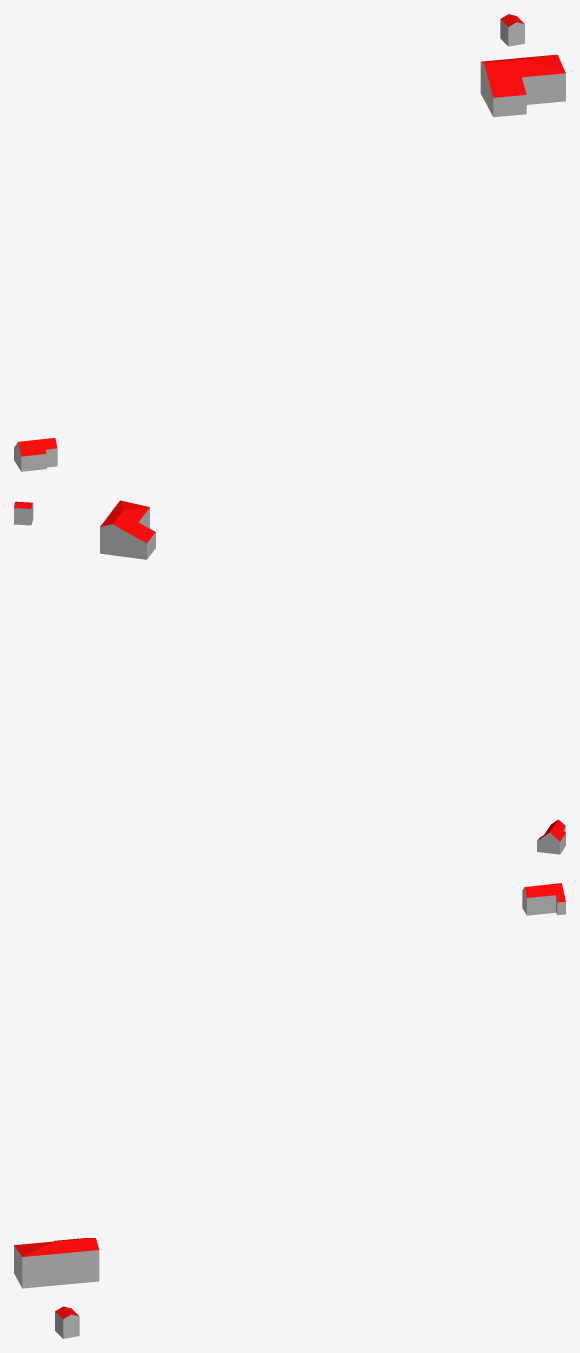
3 views of the same model, one above another, from view 1: azimuth 90°, elevation 25°; view 2: azimuth 150°, elevation 25°; view 3: azimuth 270°, elevation 25° (orthographic). The views are drawn at different scales.
Bounding box in the file's own units: 164 × 6.49 × 87.74.
